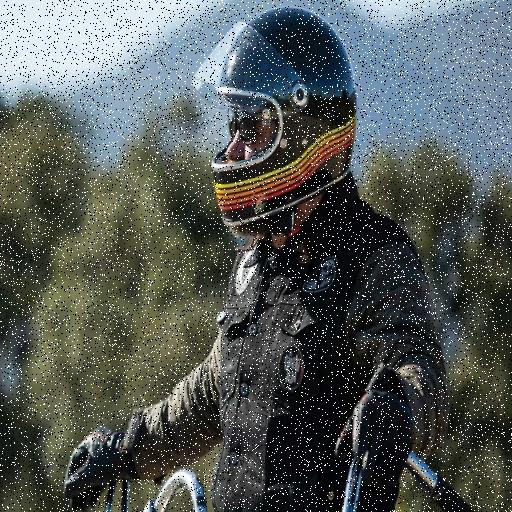Helmet: (192, 8, 355, 225)
